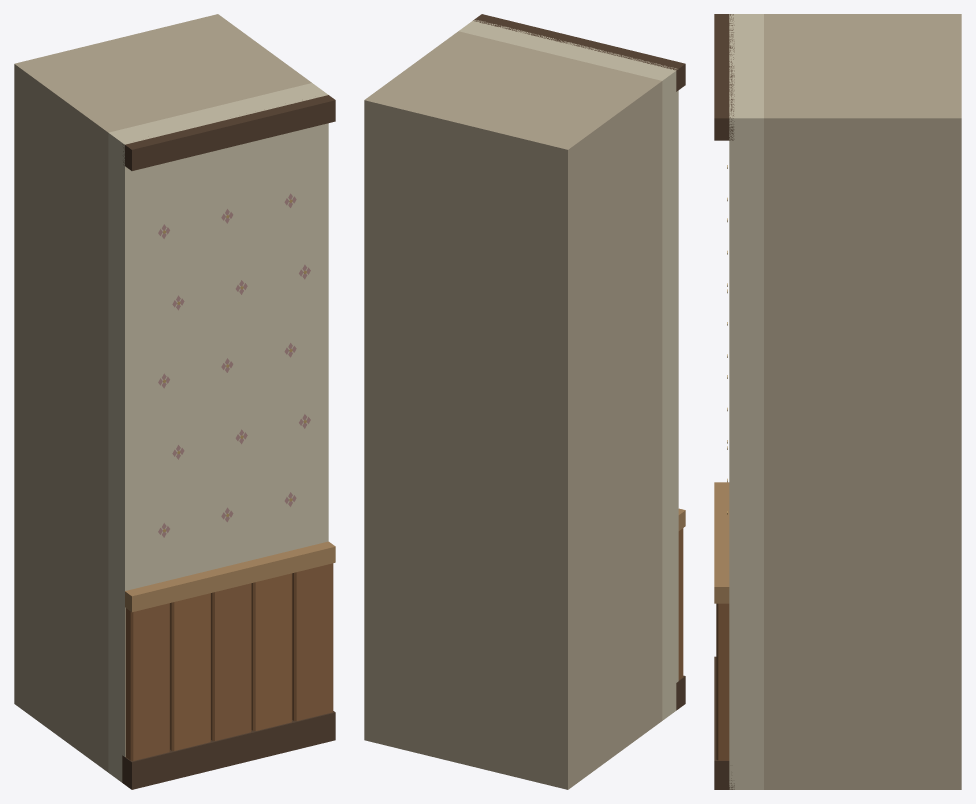
Rendered from wall_home_a.glb.
The picture shows the model from 3 angles, left to right: view 1: azimuth 30°, elevation 25°; view 2: azimuth 150°, elevation 25°; view 3: azimuth 270°, elevation 25°; orthographic projection. The views are drawn at different scales.
Visible parts, largest first — view 1: face_front, geometry; view 2: geometry, face_front; view 3: geometry, face_front.
Part boxes in pixels (bbox=[...]): face_front: bbox=[108, 83, 335, 789]; geometry: bbox=[14, 14, 311, 772]; geometry: bbox=[364, 31, 662, 789]; face_front: bbox=[458, 14, 685, 720]; geometry: bbox=[764, 14, 961, 789]; face_front: bbox=[714, 14, 763, 789].
Size of the model in its own units: 1 by 3 by 1.
